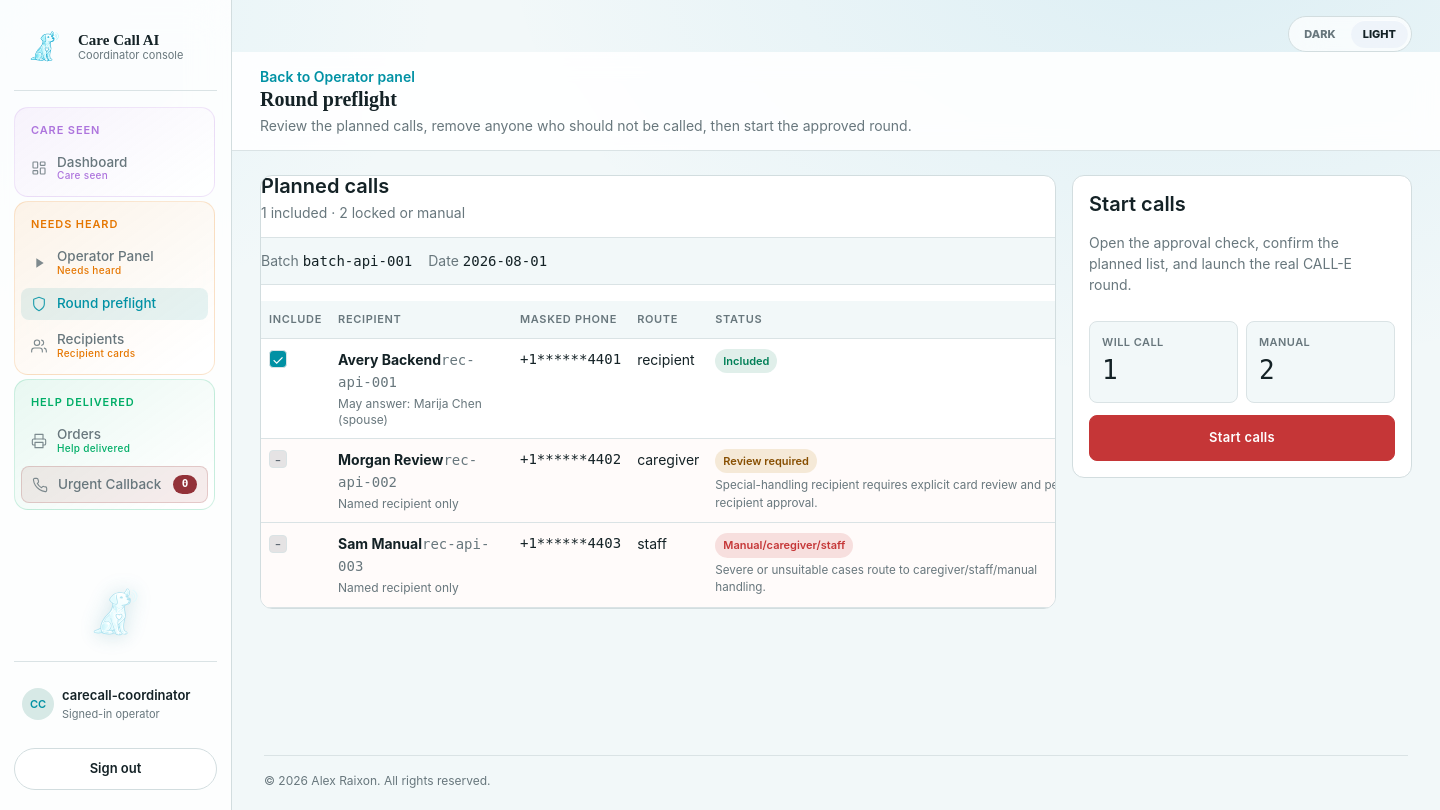
Test: PreflightPage › loads backend preflight state through the typed API client
Expected: the heading "Round preflight" is shown, [260,88,397,110]
Expected: the text "May answer: Marija Chen (spouse)" is shown, [338,396,504,428]
Click the button "Start calls" at point(1242, 438), box [1089,414,1395,460]
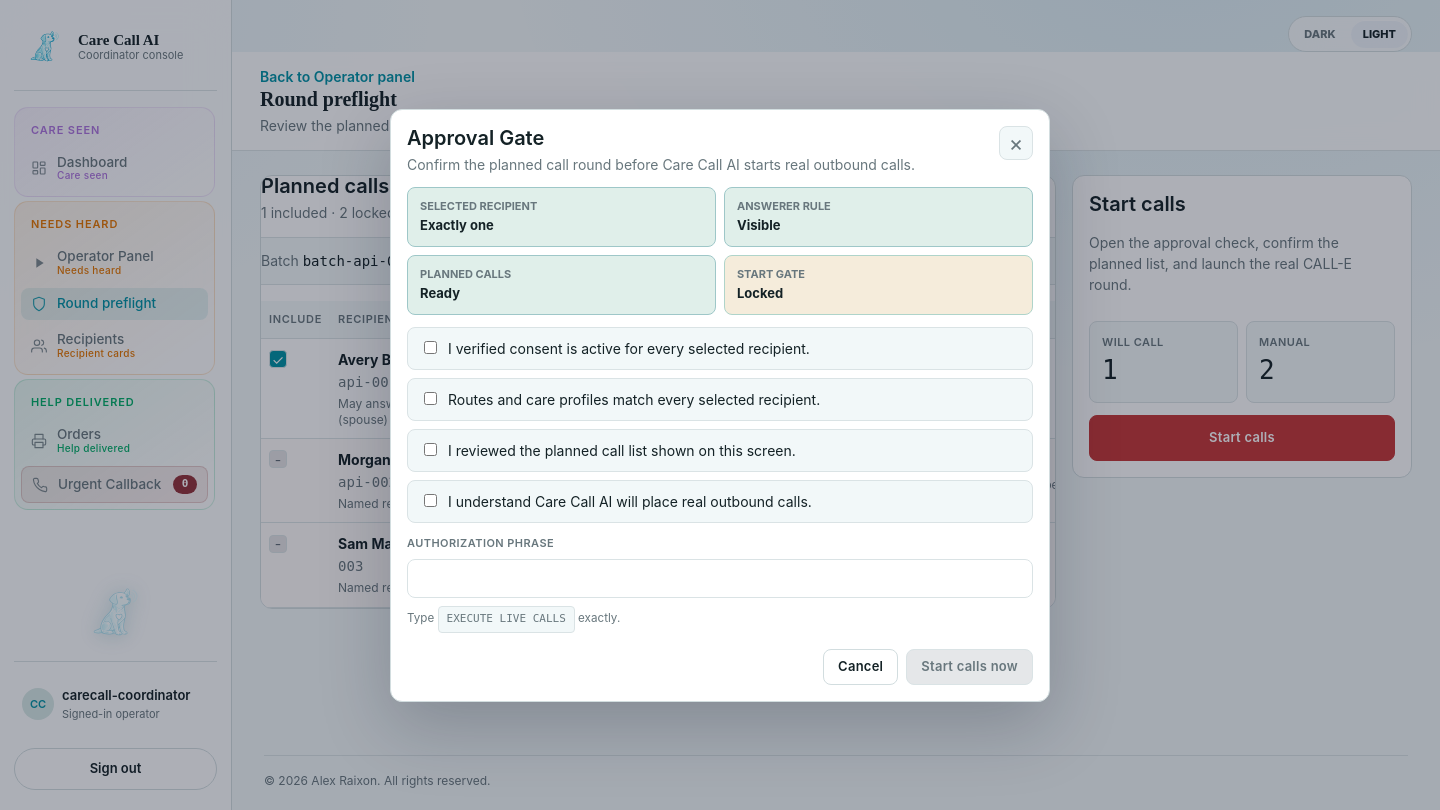
Result: the text "Selected recipient" is shown at [420,198,537,212]
Result: the text "Exactly one" is shown at [420,217,494,233]
Result: the text "Answerer rule" is shown at [737,198,831,212]
